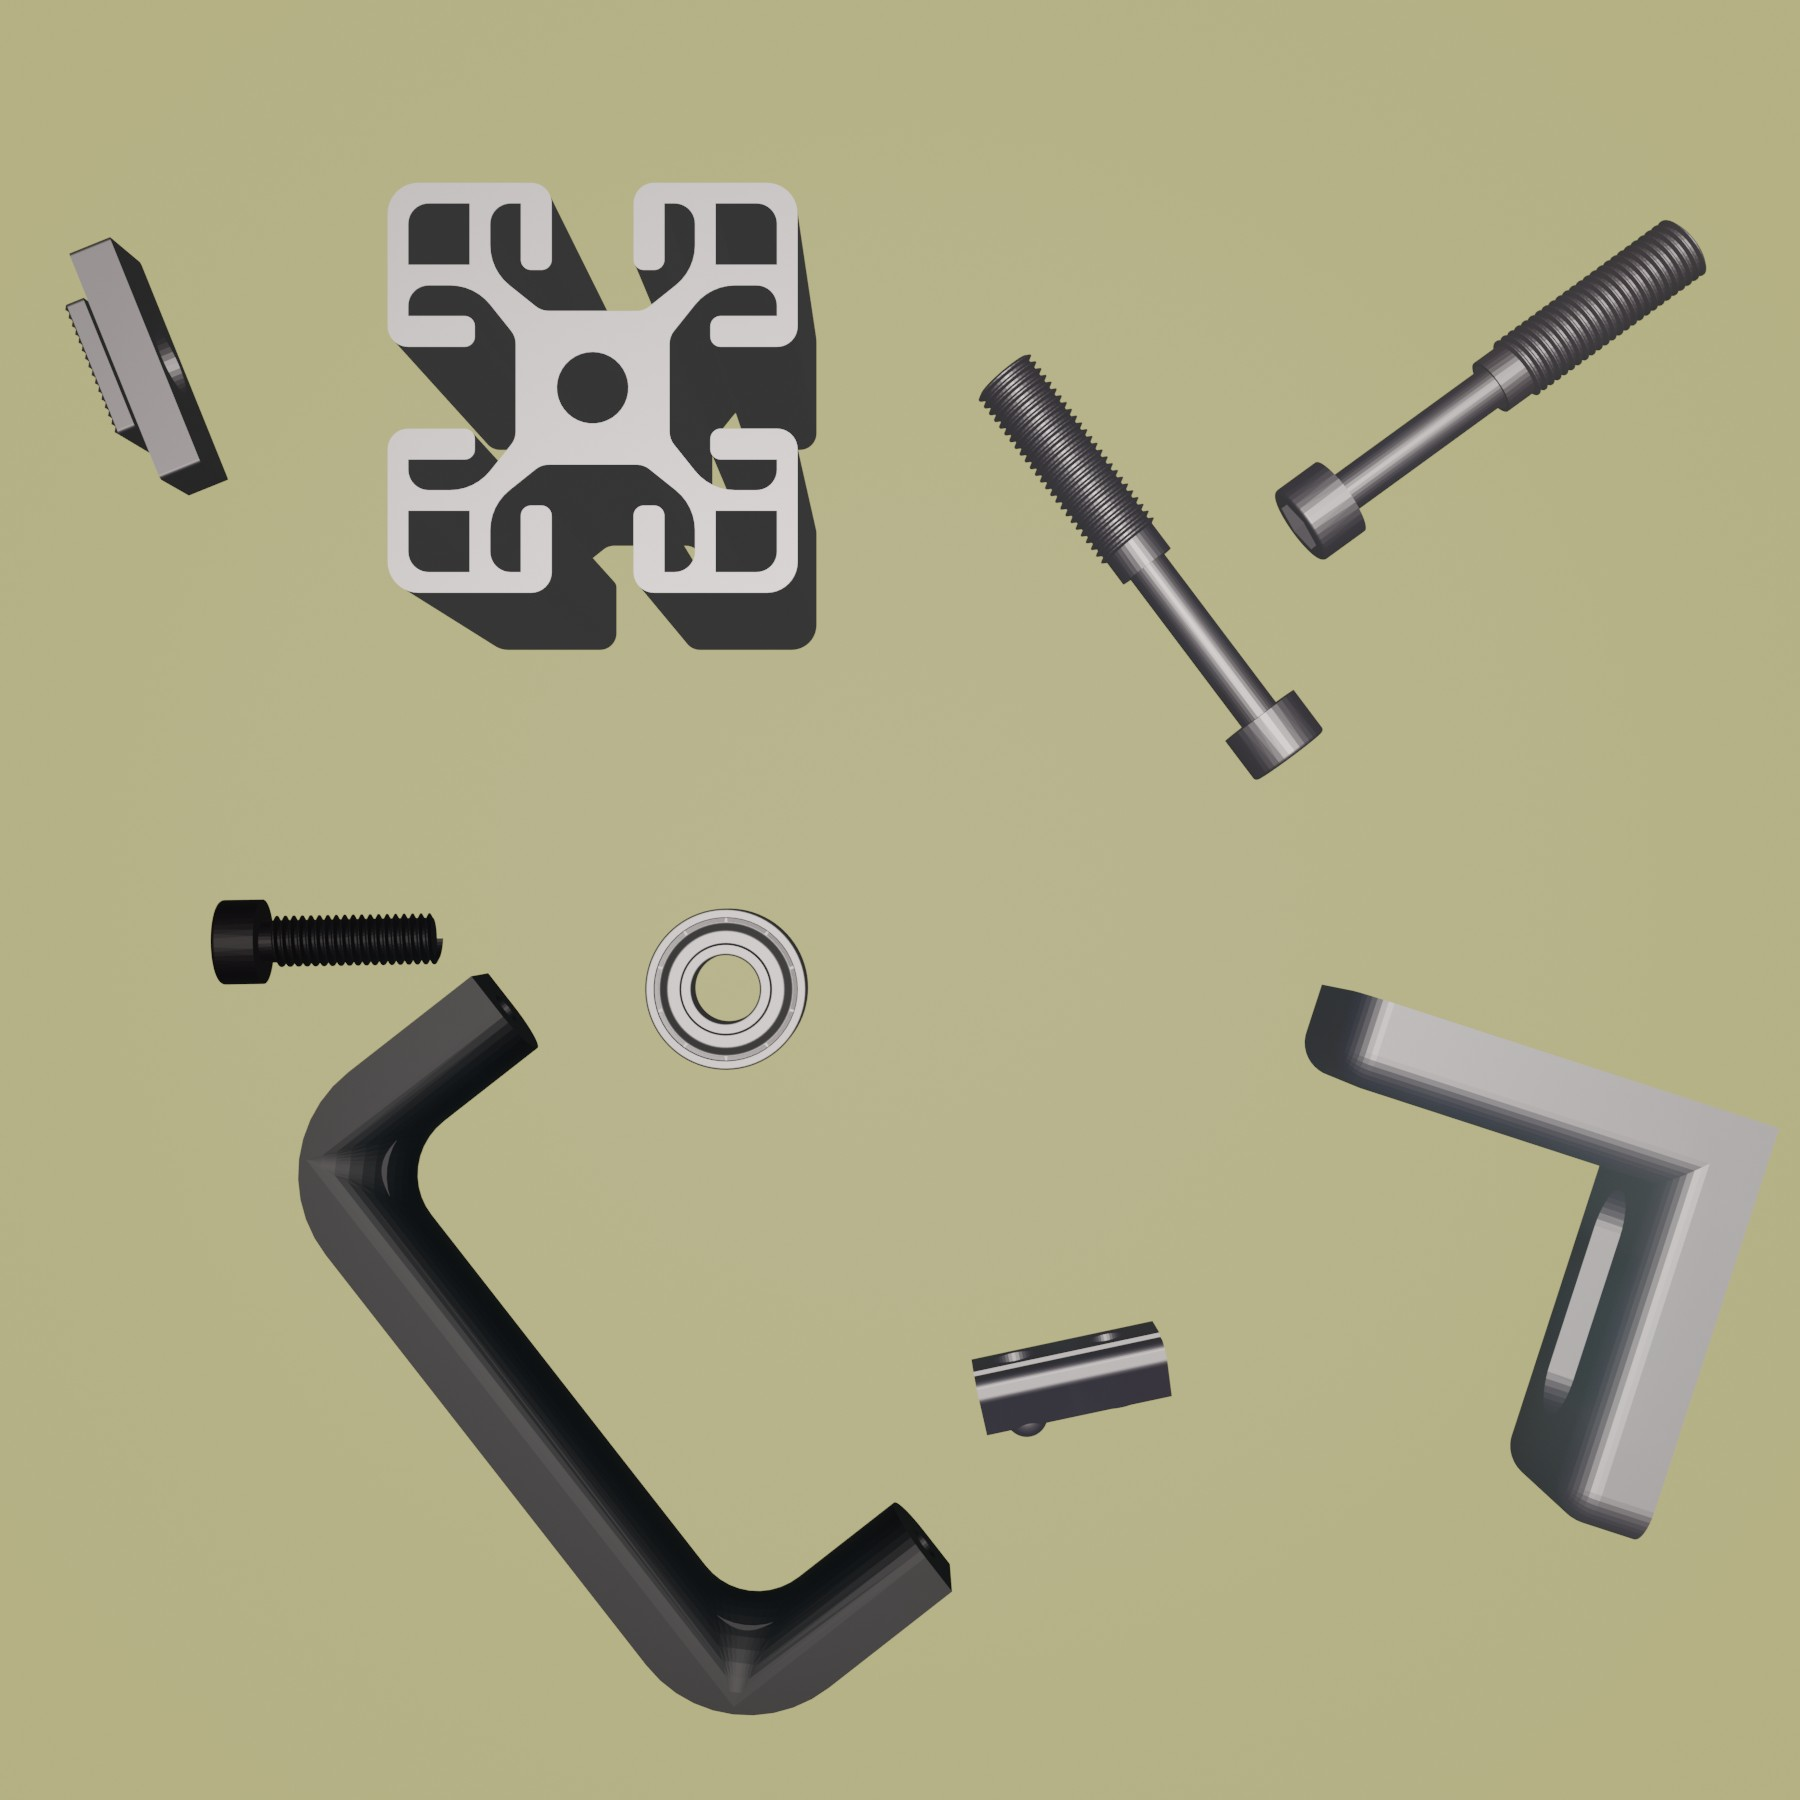Aluminium Extension: (381, 176, 821, 654)
Ball Bearing: (641, 907, 813, 1075)
Multiwinkel: (1297, 977, 1785, 1545)
Pull Handle: (293, 969, 958, 1718)
Shoulder Socket Head Cap Screw: (1269, 216, 1713, 562), (976, 351, 1324, 781)
Socket Head Cap Screw: (211, 895, 443, 987)
T Nut Square: (63, 231, 231, 499)
T Spring Nut: (969, 1310, 1175, 1442)
